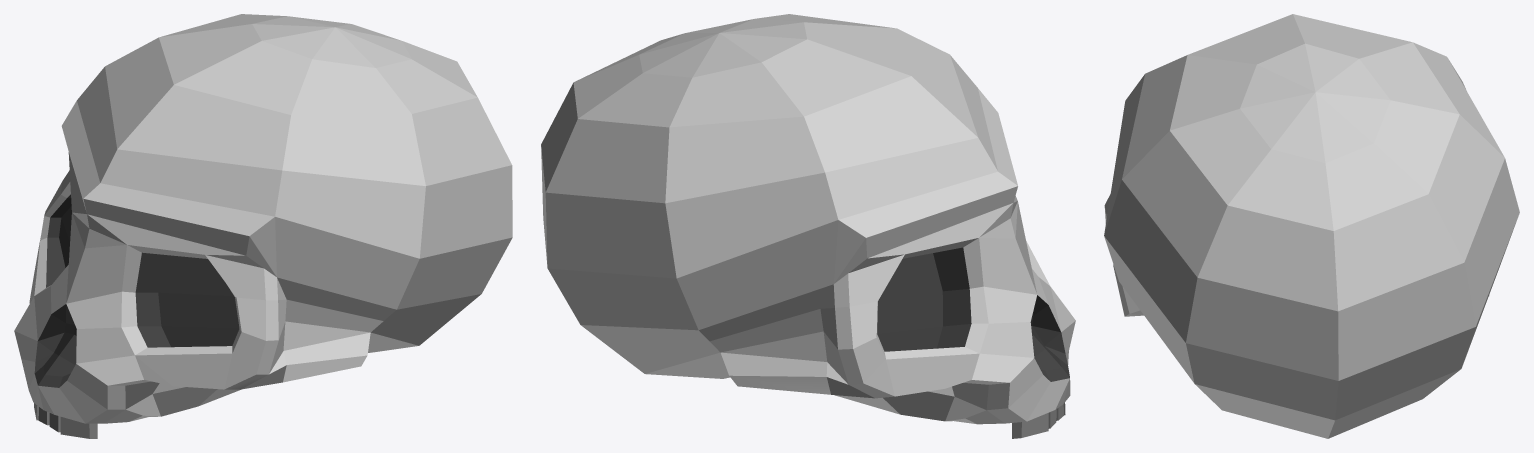
The model's file is Skull.fbx.
3 renders of one model, left to right at view 1: azimuth 30°, elevation 25°; view 2: azimuth 150°, elevation 25°; view 3: azimuth 270°, elevation 25°, orthographic. The views are drawn at different scales.
Visible parts, largest first — view 1: Skull; view 2: Skull; view 3: Skull.
Part boxes in pixels (x1,y1,x2,y2): Skull: (14,14,512,438); Skull: (541,14,1075,438); Skull: (1104,14,1519,438).
Size of the model in its own units: 29.53 by 19.21 by 21.96.
